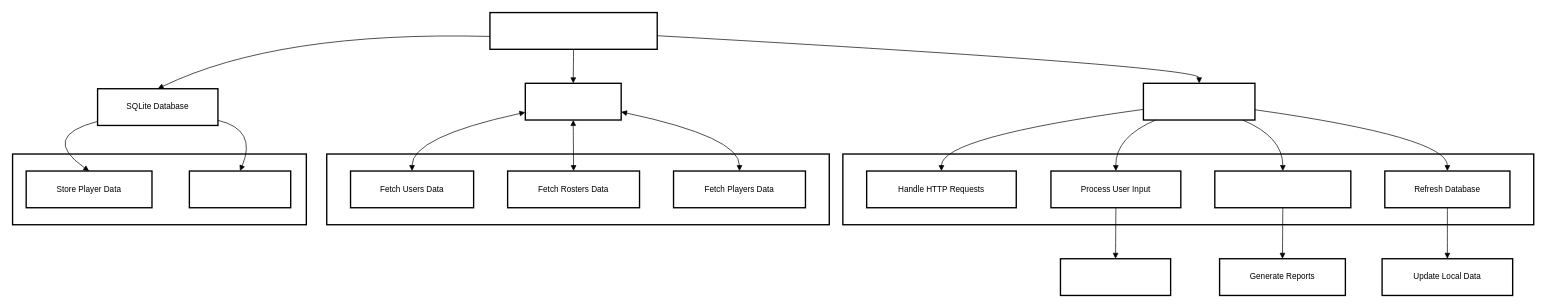
This 1546x307 diagram has some shape labels left out. The shapes that lost their labels are listed below. From the top down, each one's centre as x and y in pixels, then its label:
At (x=573, y=31): "Fantasy Football Web App".
At (x=573, y=101): "Sleeper API".
At (x=1198, y=101): "Flask Web App".
At (x=239, y=189): "Fast Queries".
At (x=1282, y=189): "Route Data Analysis".
At (x=1115, y=277): "User Interface".
